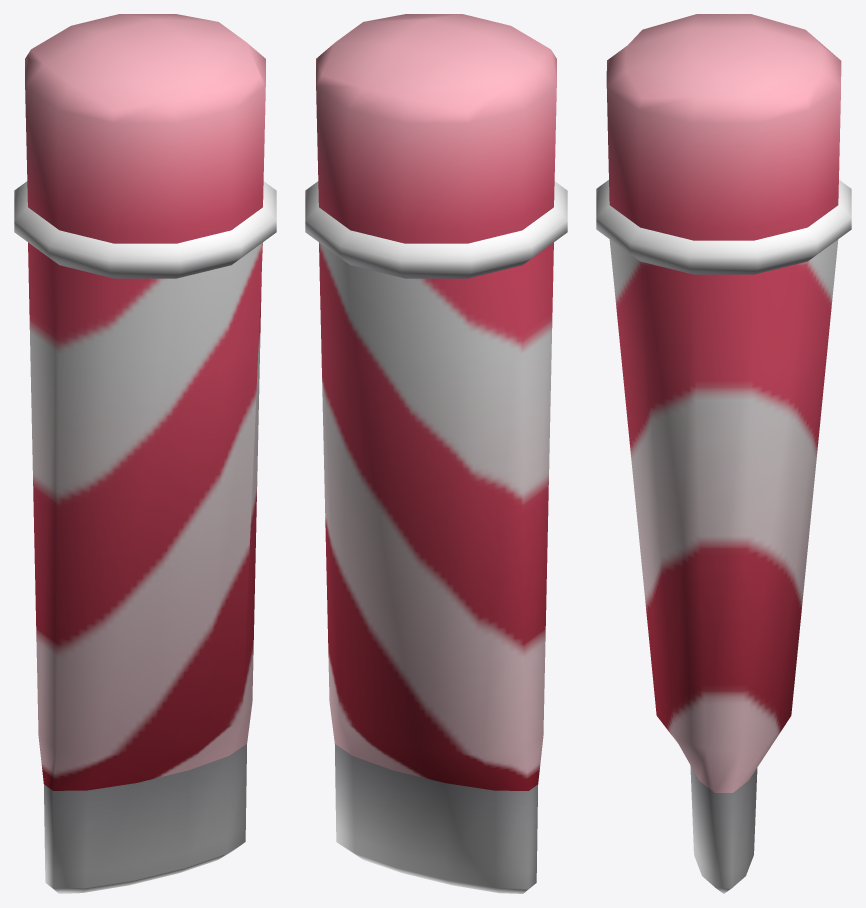
Rendered from m_PushPop01.fbx.
3 renders of one model, left to right at view 1: azimuth 30°, elevation 25°; view 2: azimuth 150°, elevation 25°; view 3: azimuth 270°, elevation 25°, orthographic. The views are drawn at different scales.
Parts seen in each view (by area): view 1: m_PushPop01; view 2: m_PushPop01; view 3: m_PushPop01.
Boxes of the visible parts, x1=… form: m_PushPop01: x1=14, y1=14, x2=276, y2=893; m_PushPop01: x1=305, y1=14, x2=567, y2=893; m_PushPop01: x1=596, y1=14, x2=851, y2=893.
Bounding box in the file's own units: 6.5 × 22.79 × 6.5.
